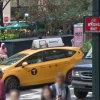Car: (4, 37, 86, 95)
